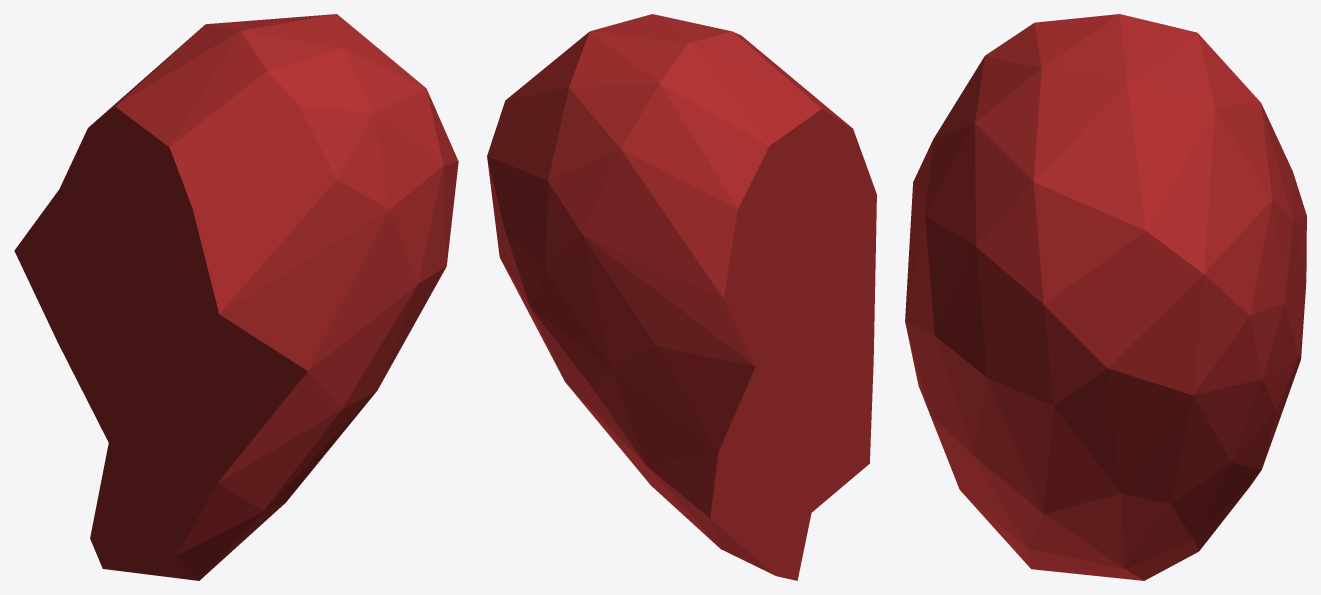
Rendered from heart2.fbx.
The picture shows the model from 3 angles, left to right: view 1: azimuth 30°, elevation 25°; view 2: azimuth 150°, elevation 25°; view 3: azimuth 270°, elevation 25°; orthographic projection. The views are drawn at different scales.
Parts seen in each view (by area): view 1: polySurface1; view 2: polySurface1; view 3: polySurface1.
Boxes of the visible parts, left/top/right/bottom form: polySurface1: left=14, top=14, right=458, bottom=580; polySurface1: left=487, top=14, right=876, bottom=580; polySurface1: left=905, top=14, right=1306, bottom=580.
Bounding box in the file's own units: 4.61 × 6.7 × 3.96.
